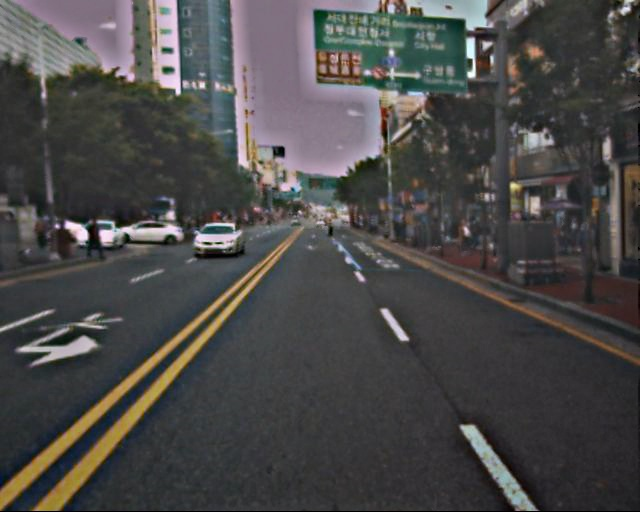person: (30, 212, 73, 261), (579, 219, 604, 280), (391, 222, 426, 252), (86, 216, 105, 263), (455, 221, 471, 259)
